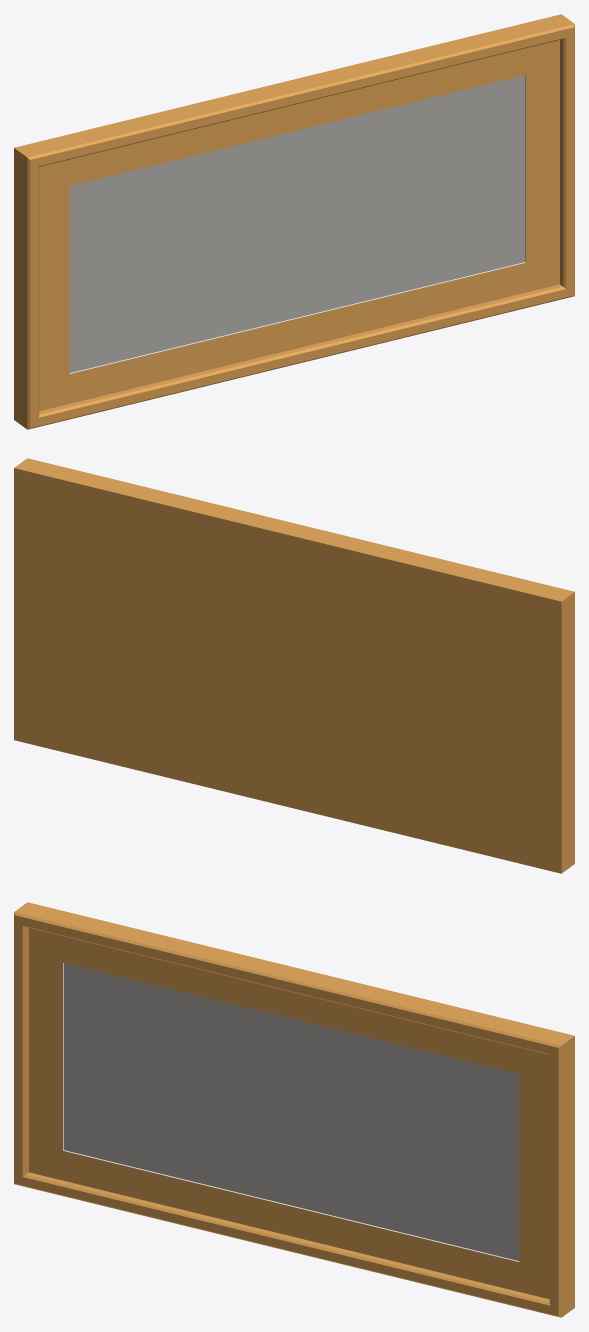
The model's file is Landscape Frame.fbx.
The picture shows the model from 3 angles, top to bottom: view 1: azimuth 30°, elevation 25°; view 2: azimuth 150°, elevation 25°; view 3: azimuth 330°, elevation 25°; orthographic projection.
Parts seen in each view (by area): view 1: Landscape Frame; view 2: Landscape Frame; view 3: Landscape Frame.
Part boxes in pixels (bbox=[...]): Landscape Frame: bbox=[14, 14, 574, 429]; Landscape Frame: bbox=[14, 458, 574, 873]; Landscape Frame: bbox=[14, 902, 574, 1317].
Size of the model in its own units: 221 by 105 by 10.19.
